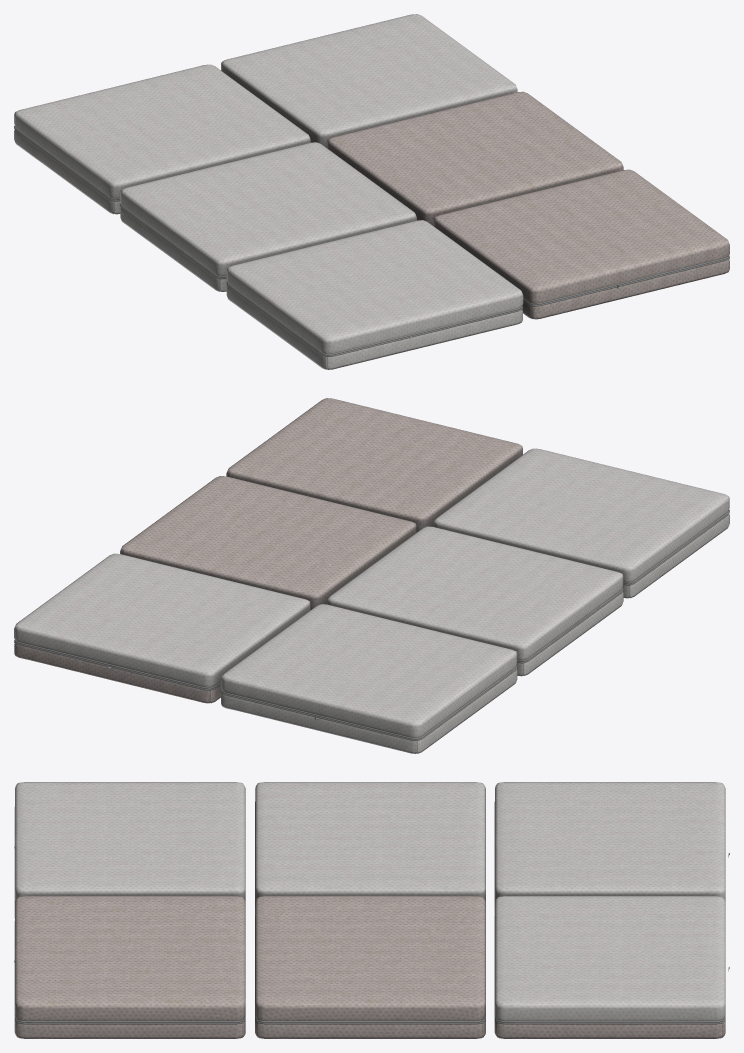
Rendered from comfortModule1.glb.
The picture shows the model from 3 angles, top to bottom: view 1: azimuth 30°, elevation 25°; view 2: azimuth 150°, elevation 25°; view 3: azimuth 270°, elevation 25°; orthographic projection. The views are drawn at different scales.
Visible parts, largest first — view 1: ComfortModule; view 2: ComfortModule; view 3: ComfortModule.
Boxes of the visible parts, left/top/right/bottom form: ComfortModule: left=14, top=14, right=729, bottom=369; ComfortModule: left=14, top=398, right=729, bottom=753; ComfortModule: left=14, top=782, right=729, bottom=1038.
Size of the model in its own units: 1.46 by 0.1135 by 1.97.
Materials: 1 (1 with a texture image).
